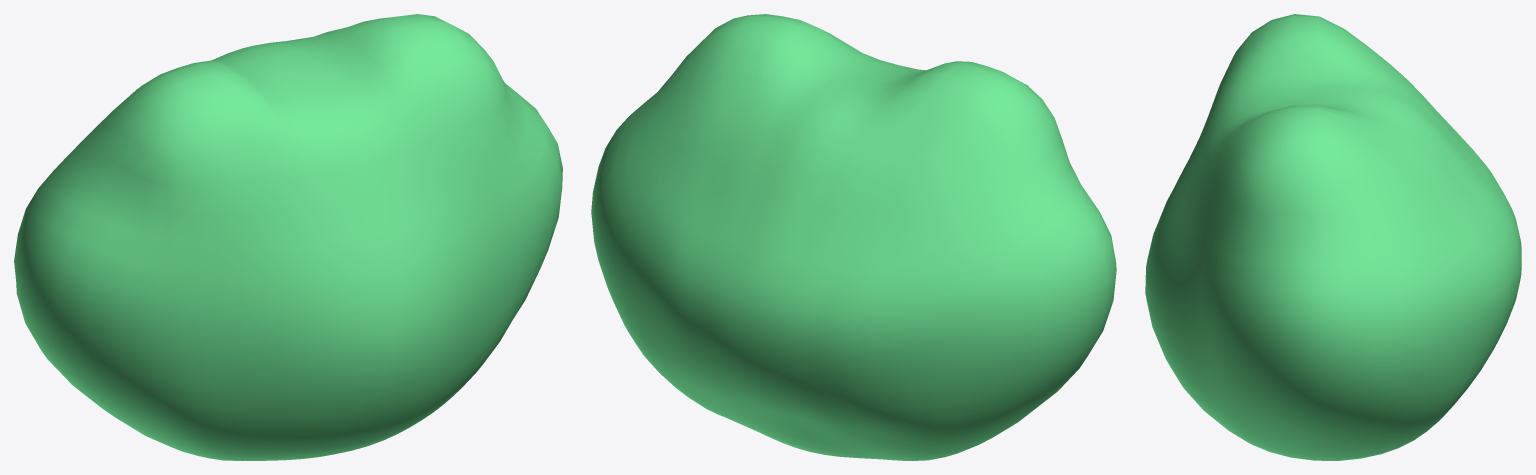
File: Head1.glb
3 views of the same model, side by side, from view 1: azimuth 30°, elevation 25°; view 2: azimuth 150°, elevation 25°; view 3: azimuth 270°, elevation 25° (orthographic). The views are drawn at different scales.
Visible parts, largest first — view 1: Head1; view 2: Head1; view 3: Head1.
Boxes of the visible parts, <box> form: Head1: <box>14,14,562,460</box>; Head1: <box>591,14,1116,460</box>; Head1: <box>1145,14,1521,460</box>.
Size of the model in its own units: 0.4706 by 0.344 by 0.3287.
